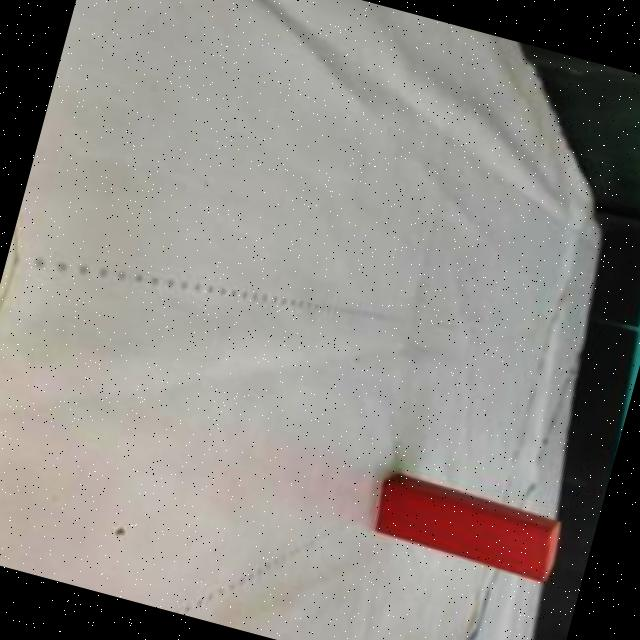redbox: (370, 469, 565, 588)
